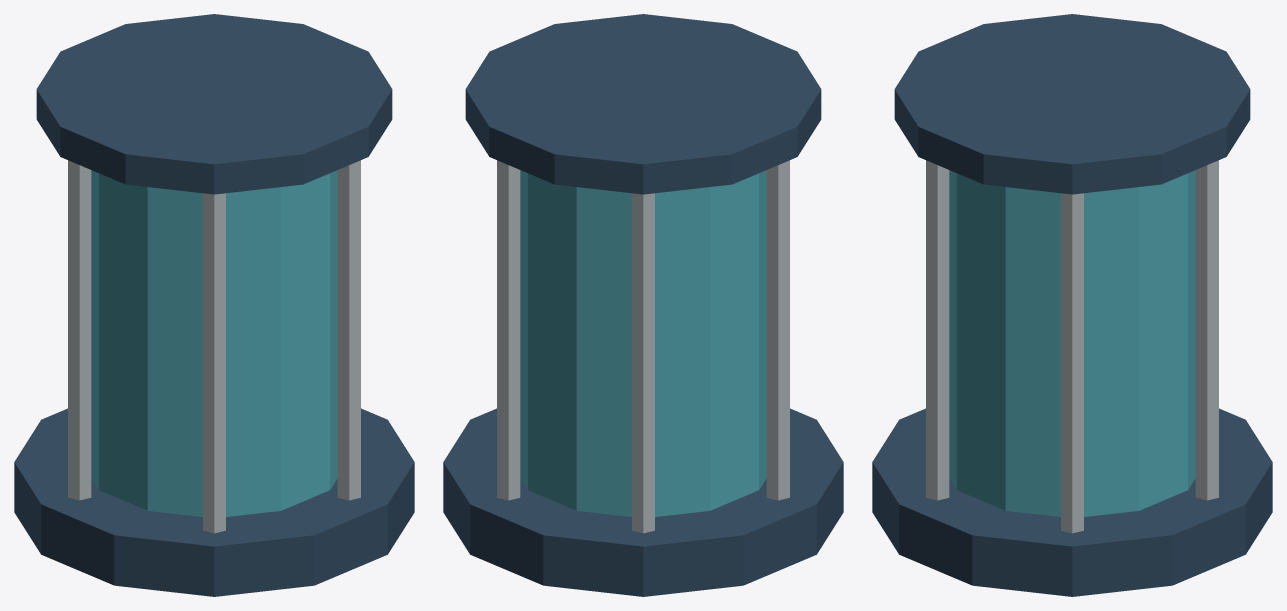
Rendered from SpaceStation_ReactorCore_Simple.glb.
3 views of the same model, side by side, from view 1: azimuth 30°, elevation 25°; view 2: azimuth 150°, elevation 25°; view 3: azimuth 270°, elevation 25° (orthographic).
Parts seen in each view (by area): view 1: SpaceStation_ReactorCore_Simple; view 2: SpaceStation_ReactorCore_Simple; view 3: SpaceStation_ReactorCore_Simple.
Boxes of the visible parts, x1,y1,x2,y2 form: SpaceStation_ReactorCore_Simple: (14,14,414,596); SpaceStation_ReactorCore_Simple: (443,14,843,596); SpaceStation_ReactorCore_Simple: (872,14,1272,596).
Size of the model in its own units: 3.6 by 4.2 by 3.6.
